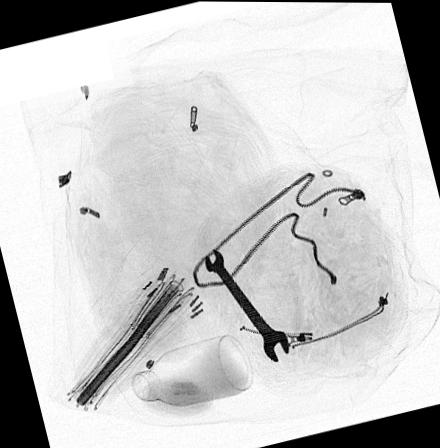Wrench: (202, 246, 290, 364)
